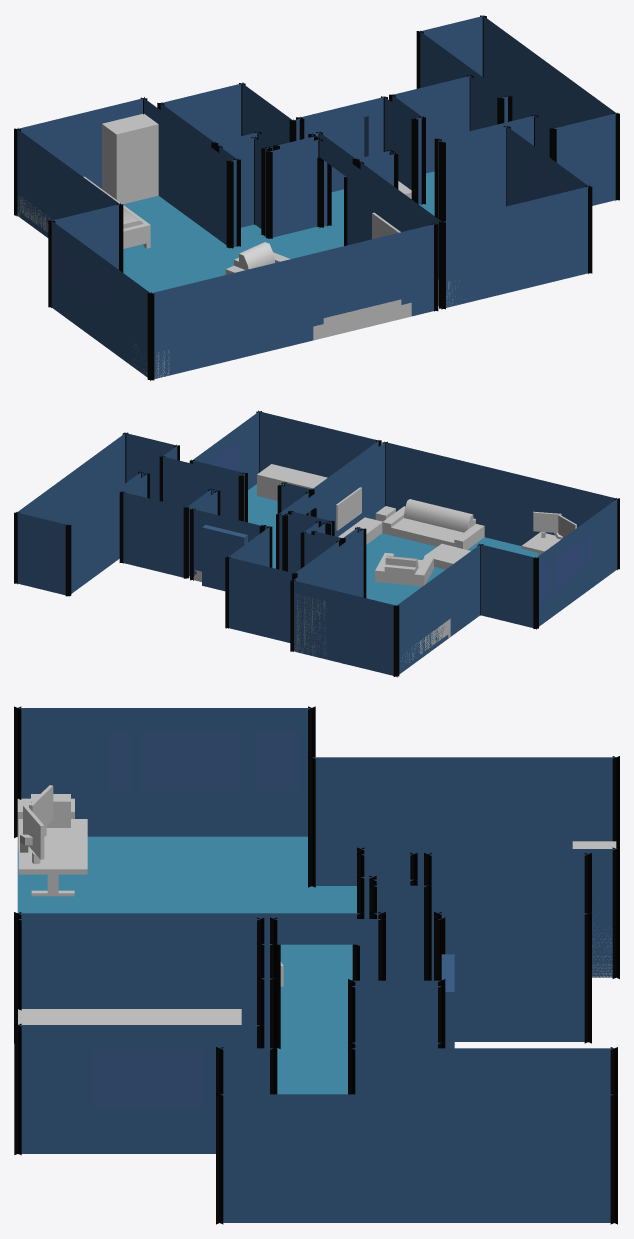
The model's file is apartment.glb.
3 views of the same model, one above another, from view 1: azimuth 30°, elevation 25°; view 2: azimuth 150°, elevation 25°; view 3: azimuth 270°, elevation 25° (orthographic). The views are drawn at different scales.
Visible parts, largest first — view 1: Walls, Floor, BedroomCloset, Couch, Bed, TinyCouch, Corner, Corner.011, Corner.005, Corner.031, Corner.046, Corner.043; view 2: Walls, Floor, Couch, TinyCouch, Countertop, TVAndDesk, Monitors, CouchFootRest, Corner.003, Corner.033, Corner.037, ComputerDesk (+3 smaller); view 3: Walls, Floor, Countertop, ComputerDesk, Monitors, Corner.002, Corner.022, Corner.004, Corner.038, Corner.039, Corner.045, Corner (+3 smaller).
Part boxes in pixels (x1,y1,x2,y2): Walls: (17,16,616,378); Floor: (123,171,434,292); BedroomCloset: (102,114,158,204); Couch: (313,299,411,340); Bed: (17,176,150,248); TinyCouch: (225,242,290,274); Corner: (147,292,154,380); Corner.011: (265,151,272,238); Corner.005: (226,160,233,248); Corner.031: (411,118,418,203); Corner.046: (439,221,445,309); Corner.043: (439,141,445,221); Walls: (17,411,617,675); Floor: (248,484,538,605); Couch: (382,499,484,549); TinyCouch: (375,553,433,586); Countertop: (257,464,327,500); TVAndDesk: (336,487,382,544); Monitors: (533,511,576,539); CouchFootRest: (423,543,470,569); Corner.003: (393,605,399,677); Corner.033: (183,507,189,578); Corner.037: (65,524,71,596); ComputerDesk: (521,532,560,555); Walls: (18,708,615,1222); Floor: (17,836,356,1094); Countertop: (18,1009,241,1024); ComputerDesk: (18,819,87,896); Monitors: (20,785,53,864); Corner.002: (308,756,315,887); Corner.022: (584,912,591,1043); Corner.004: (612,847,619,978); Corner.038: (610,1093,617,1224); Corner.039: (216,1093,223,1224); Corner.045: (14,1023,21,1155); Corner: (14,706,21,837).
Size of the model in its own units: 3.66 by 0.5648 by 2.4.
Materials: 5 (1 with a texture image).
